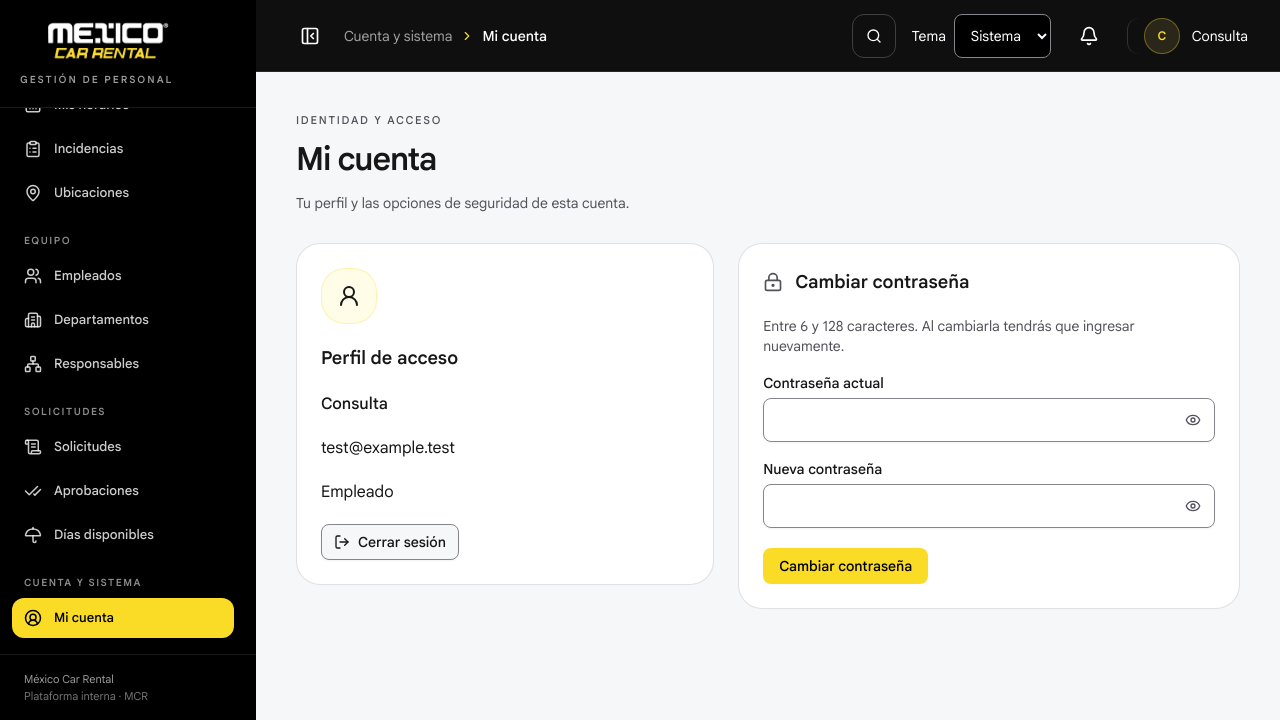
Test case: permite navegar con teclado y no intercepta el atajo mientras se escribe
(page scrolled)
Expected: the heading "Mi cuenta" is shown, 296,138 -> 436,178
Click the password field labelled "Contraseña actual" at (989, 420), box 763,398 -> 1215,442
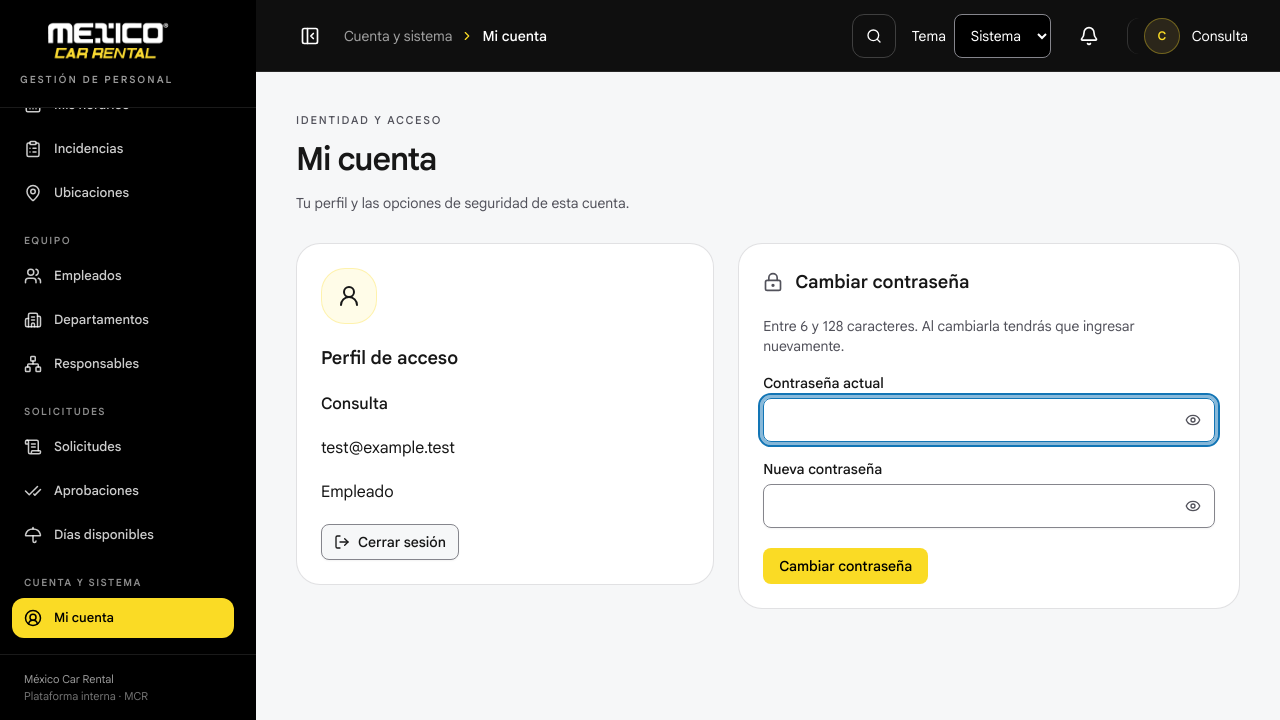
Type keys "{Control>}k{/Control}"
Expected: the dialog "Buscar secciones" is not shown
Click the button named "Buscar secciones" at (874, 36), box 852,14 -> 896,58
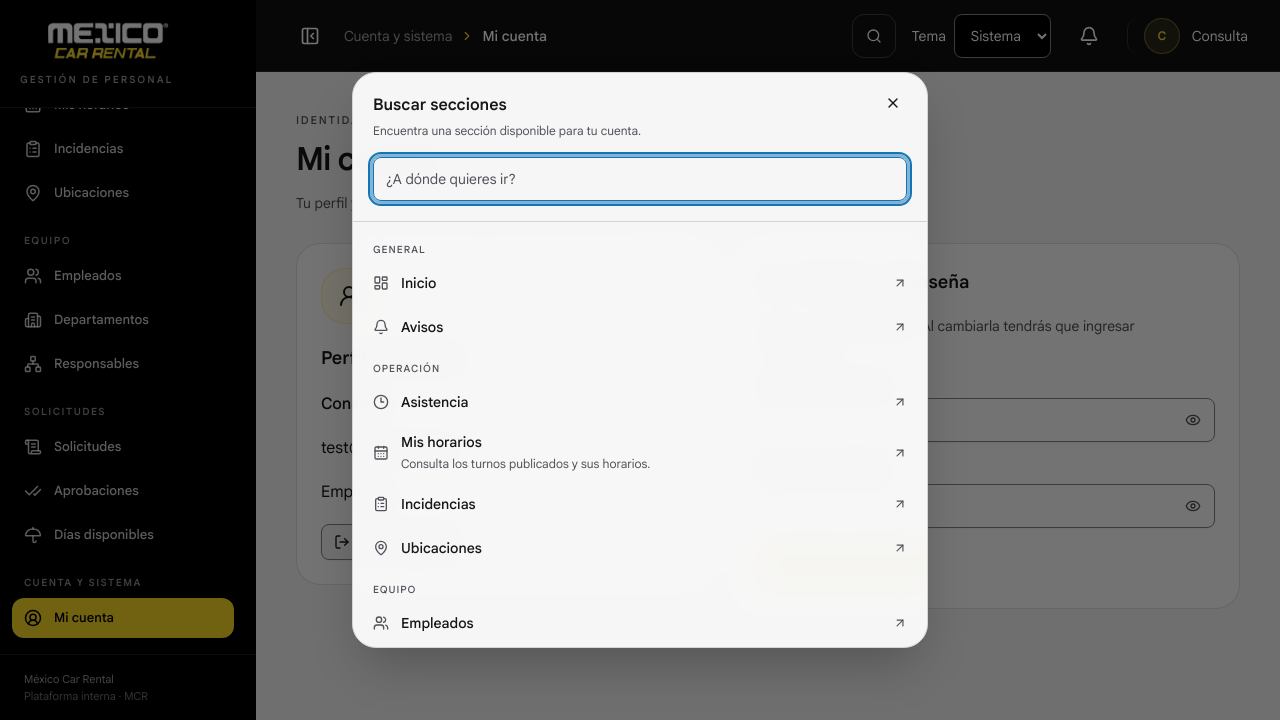
Type "Estado del sistema" into the search field named "Buscar una sección" at (640, 179), box 373,157 -> 907,201
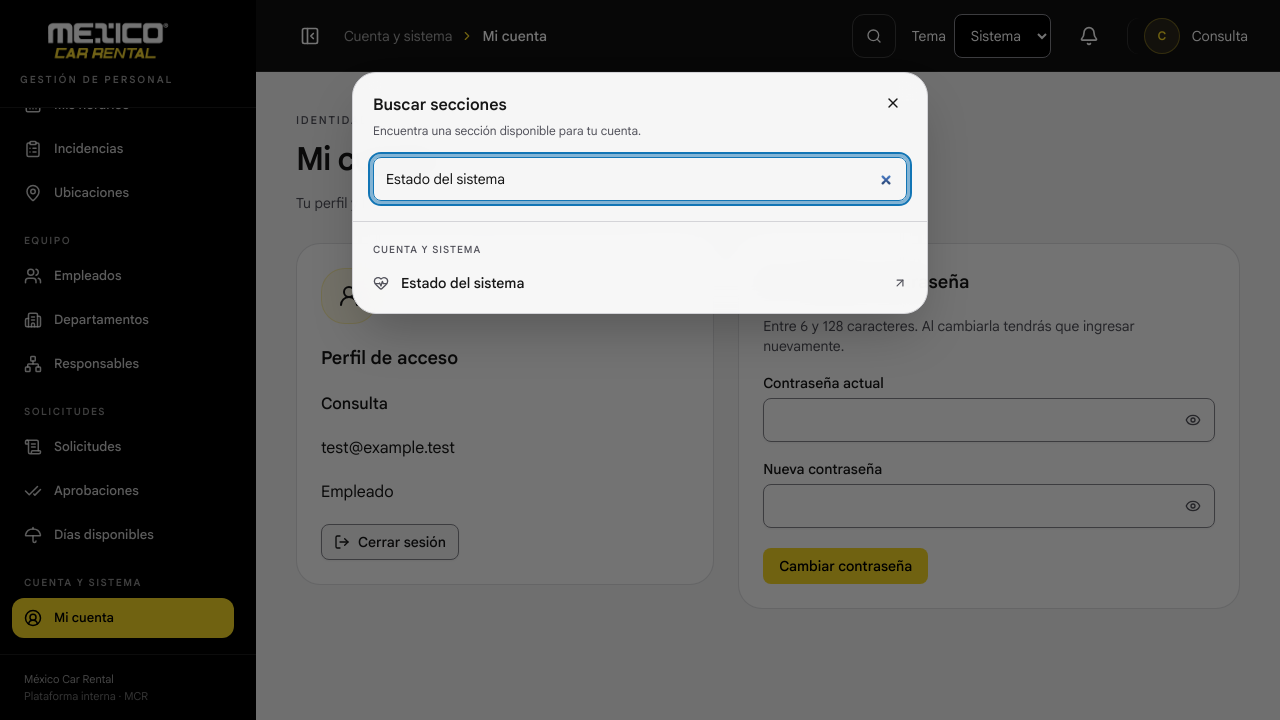
Press Tab
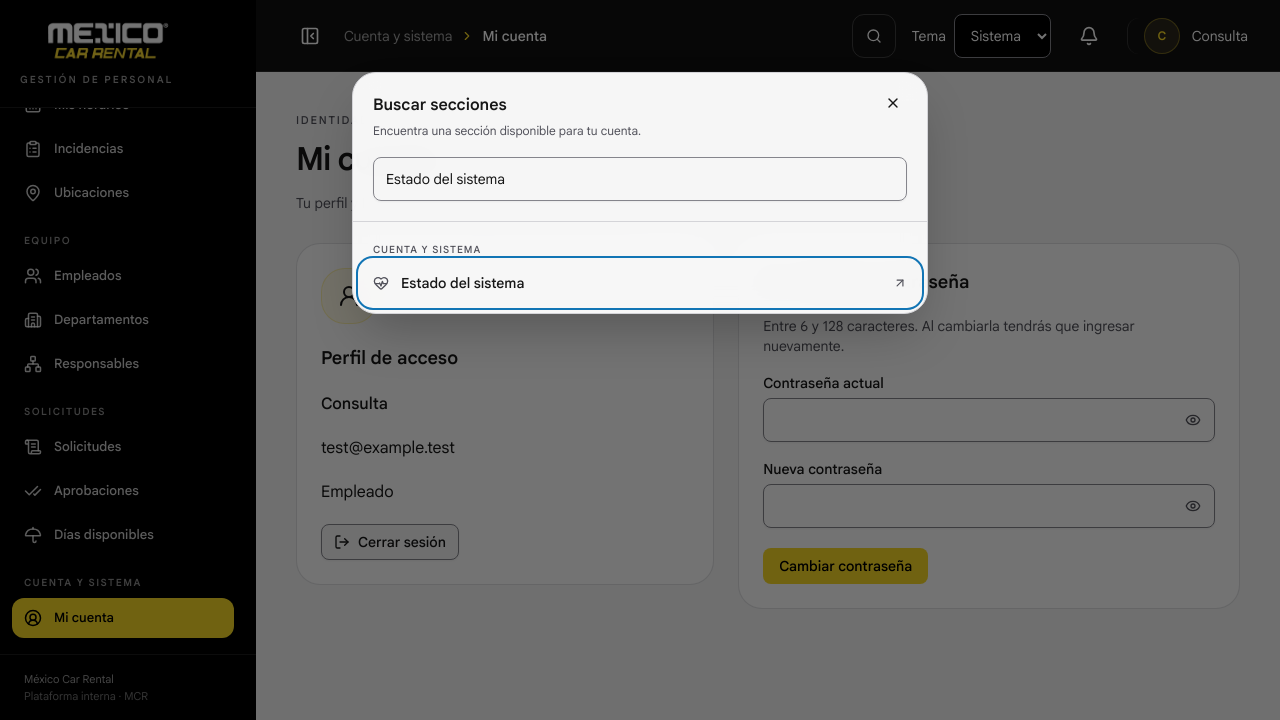
Press Enter
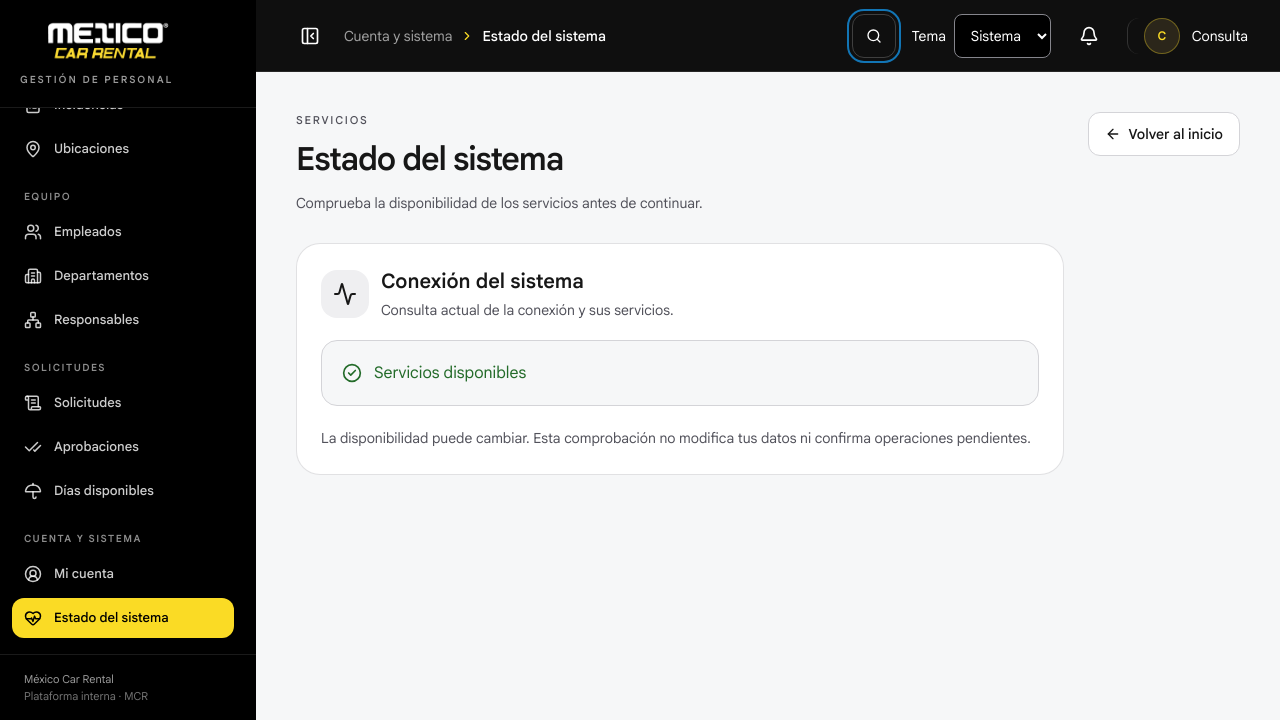
Expected: the heading "Estado del sistema" is shown, 296,138 -> 563,178
Expected: the heading "Buscar secciones" is gone
